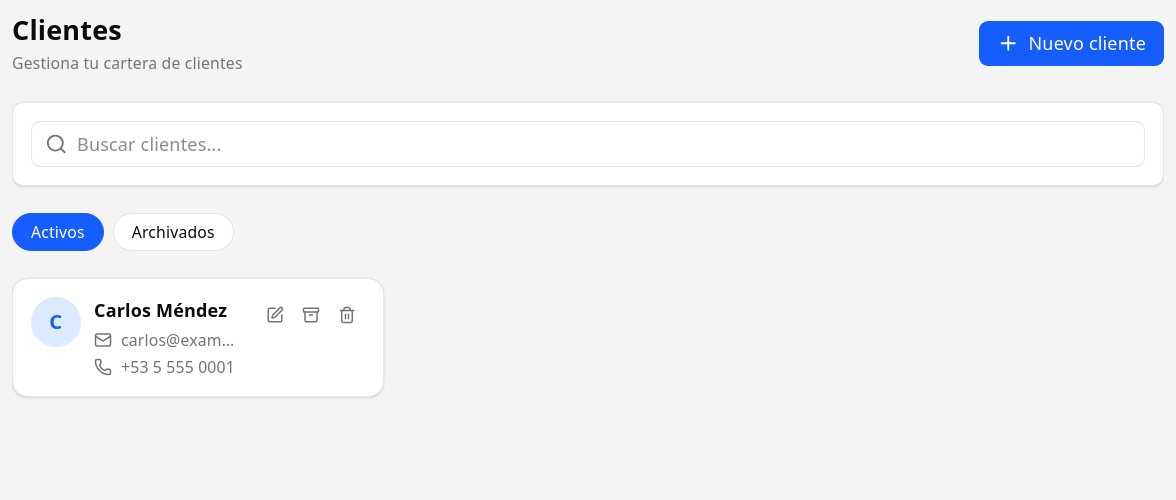
Scenario: Clientes › sin archivados lo dice
Check: the heading "Carlos Méndez" is shown, box [94,297,244,324]
What coordinates should you click on to do the following:
click the button "Archivados"
I would click on:
 (173, 232)
Its box is [113,213,234,251].
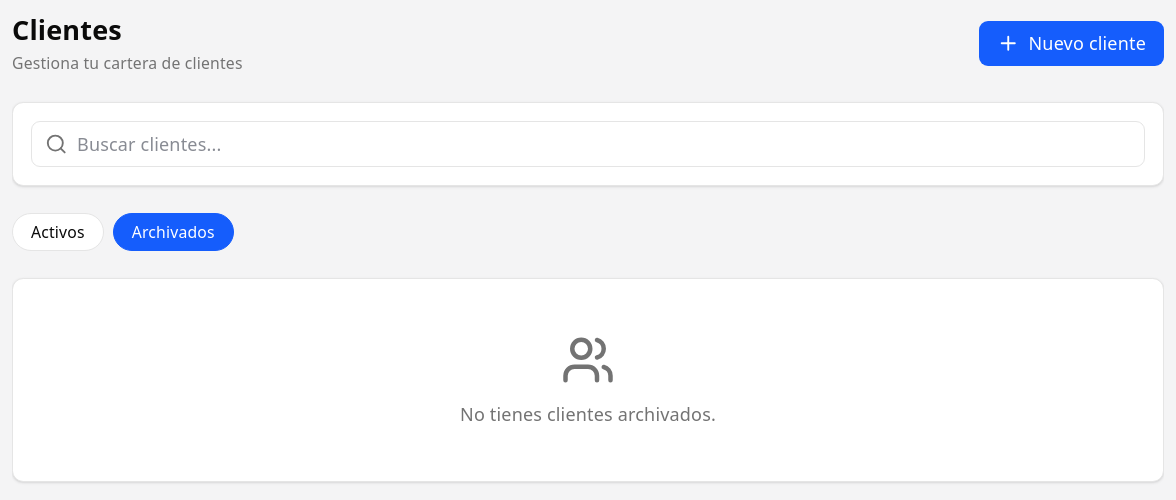
Check: the text "No tienes clientes archivados." is shown, box [460,402,716,426]
